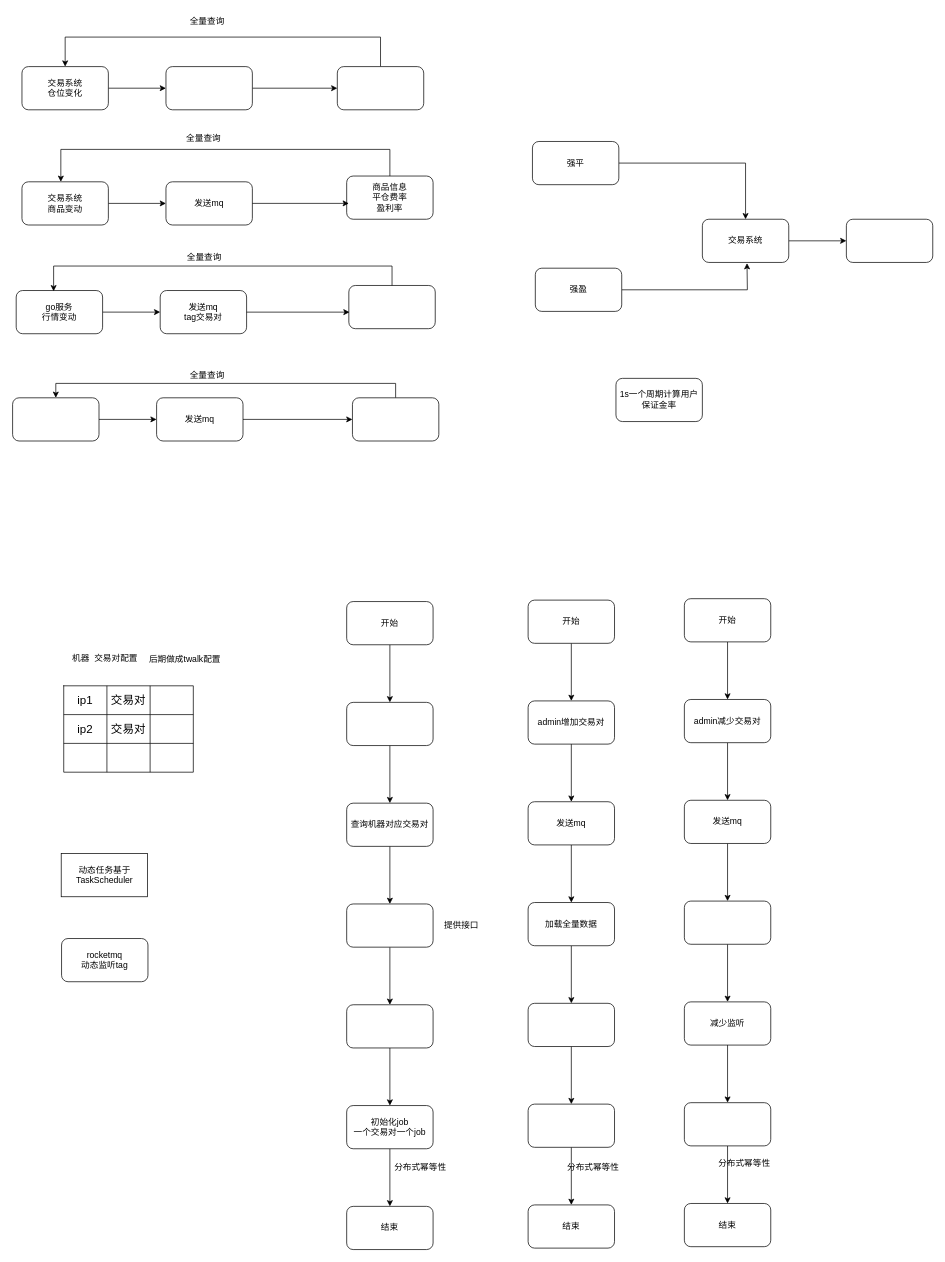
Image size: 945x1262. Some labels were removed from this diagram. Here are the shapes that lost their labels. From the top down, the box of each, then its label:
(165, 66, 252, 110): 发送mq 交易对tag
(337, 66, 424, 110): 仓位 资金费 开仓手续费 保证金 杠杆
(846, 219, 933, 262): 结算服务
(348, 285, 435, 329): 行情 标记价
(12, 397, 99, 441): 交易系统 保证金改动
(352, 397, 439, 441): 保证金配置 交易系统维护表
(346, 702, 433, 746): 项目启动
(346, 903, 433, 947): 加载交易对全量数量
(684, 900, 771, 944): 删除内存数据
(346, 1004, 433, 1048): 初始化rocketmq kafka 监听交易对相关信息
(527, 1003, 615, 1047): 新增监听
(527, 1103, 615, 1147): 新增交易对job
(684, 1102, 771, 1146): 删除job
